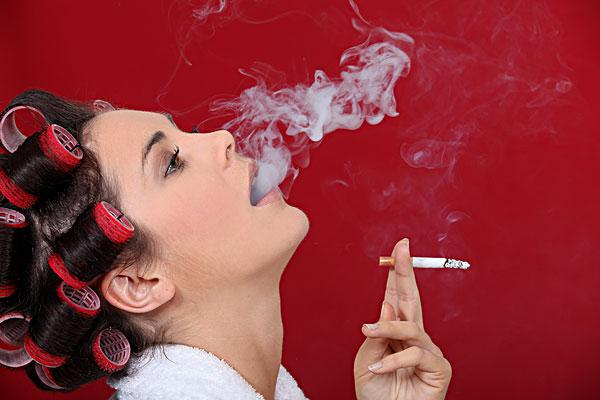smoke: (375, 250, 470, 274)
